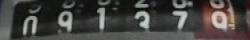digits: (210, 9, 228, 35), (57, 9, 73, 37), (134, 10, 151, 36), (172, 9, 189, 34), (23, 14, 38, 38), (96, 6, 107, 34)
